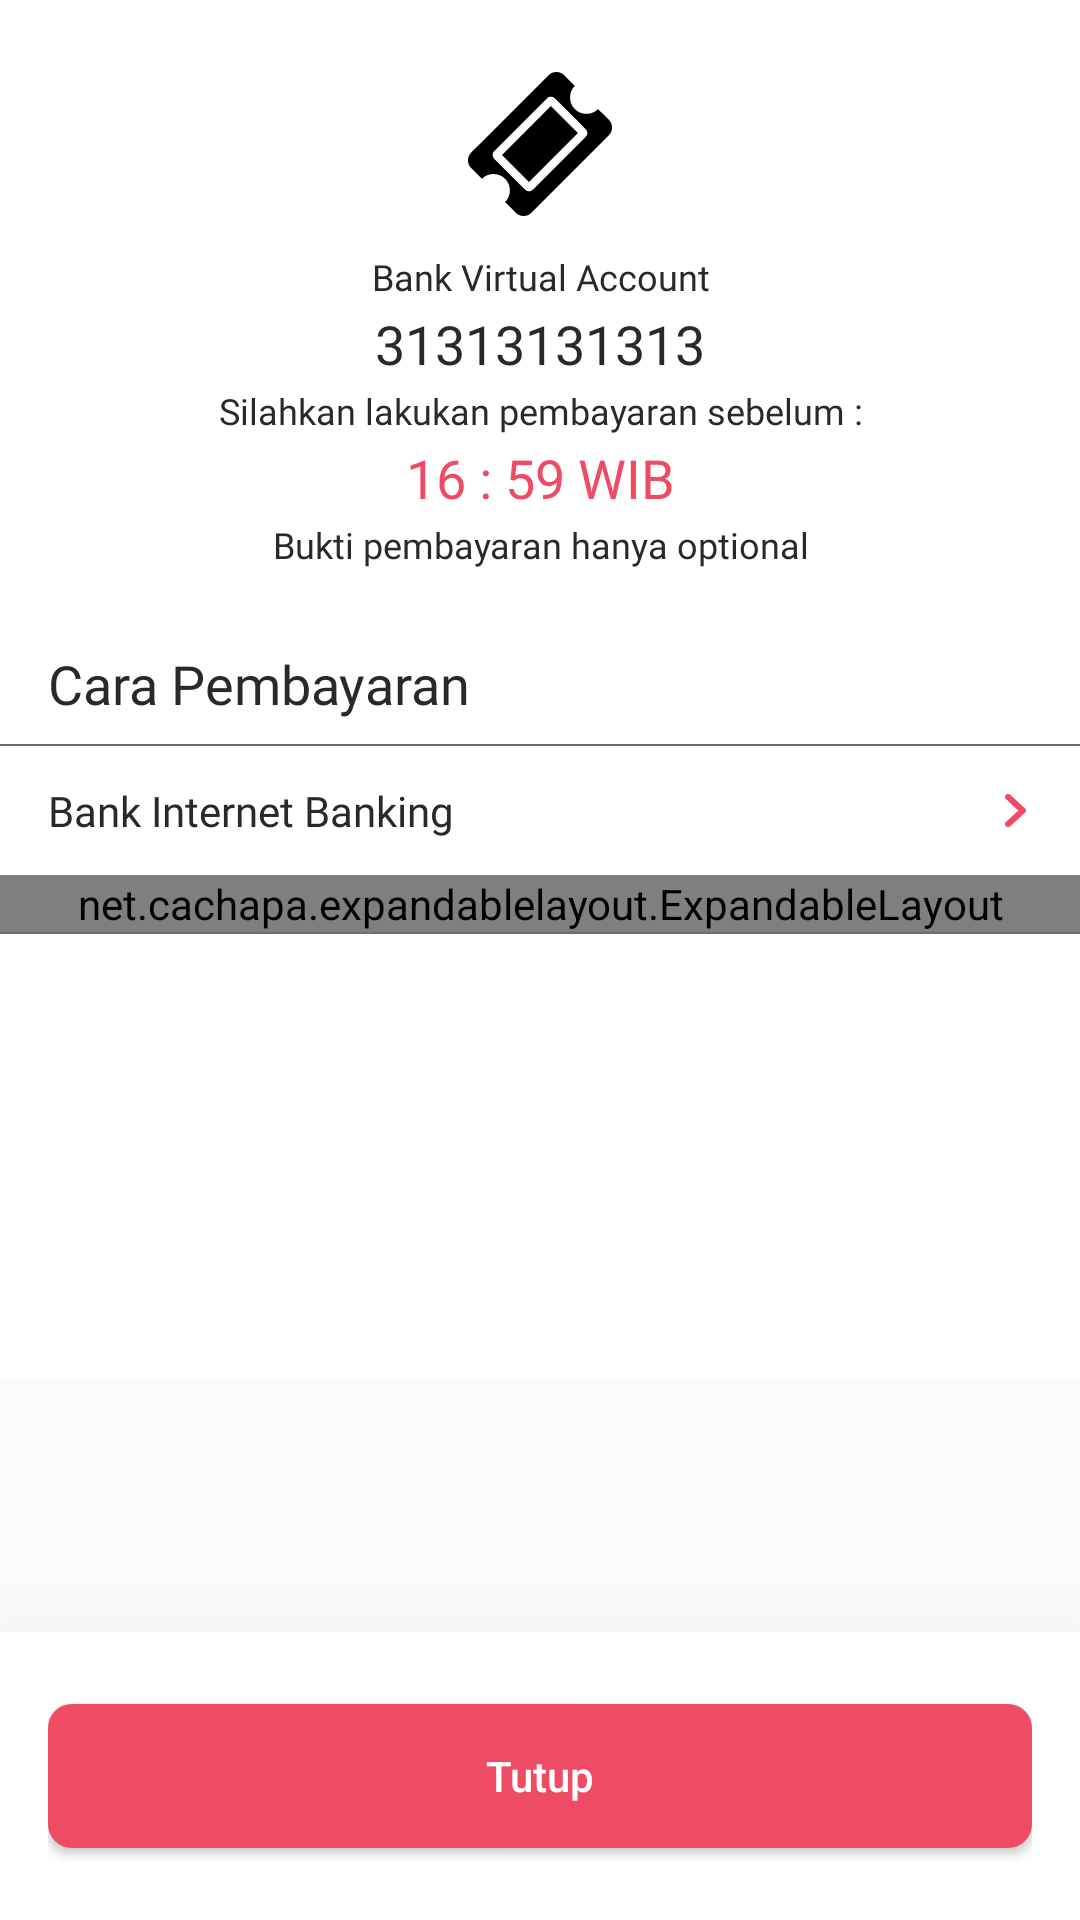

Point at icon controls on the screen. Image size 1080x1920, points as point (x, y).
ticket: point (540, 144)
